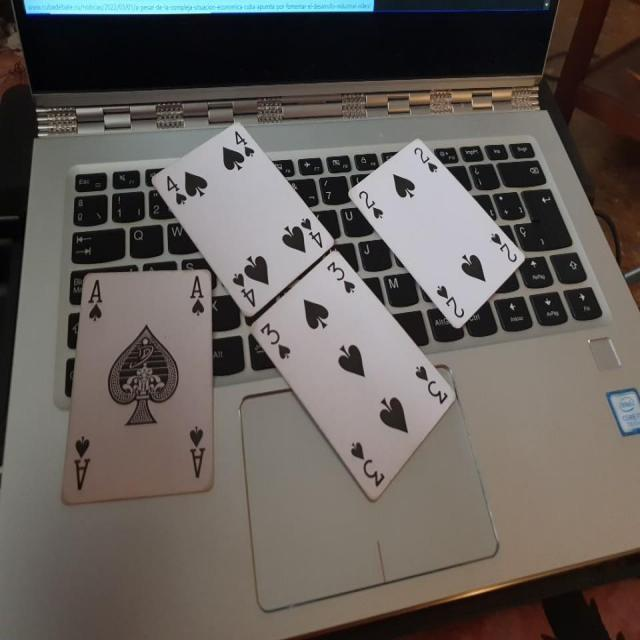2 Spades: (343, 134, 527, 328)
3 Spades: (246, 250, 463, 508)
4 Spades: (144, 113, 332, 311)
A Spades: (55, 265, 222, 515)
